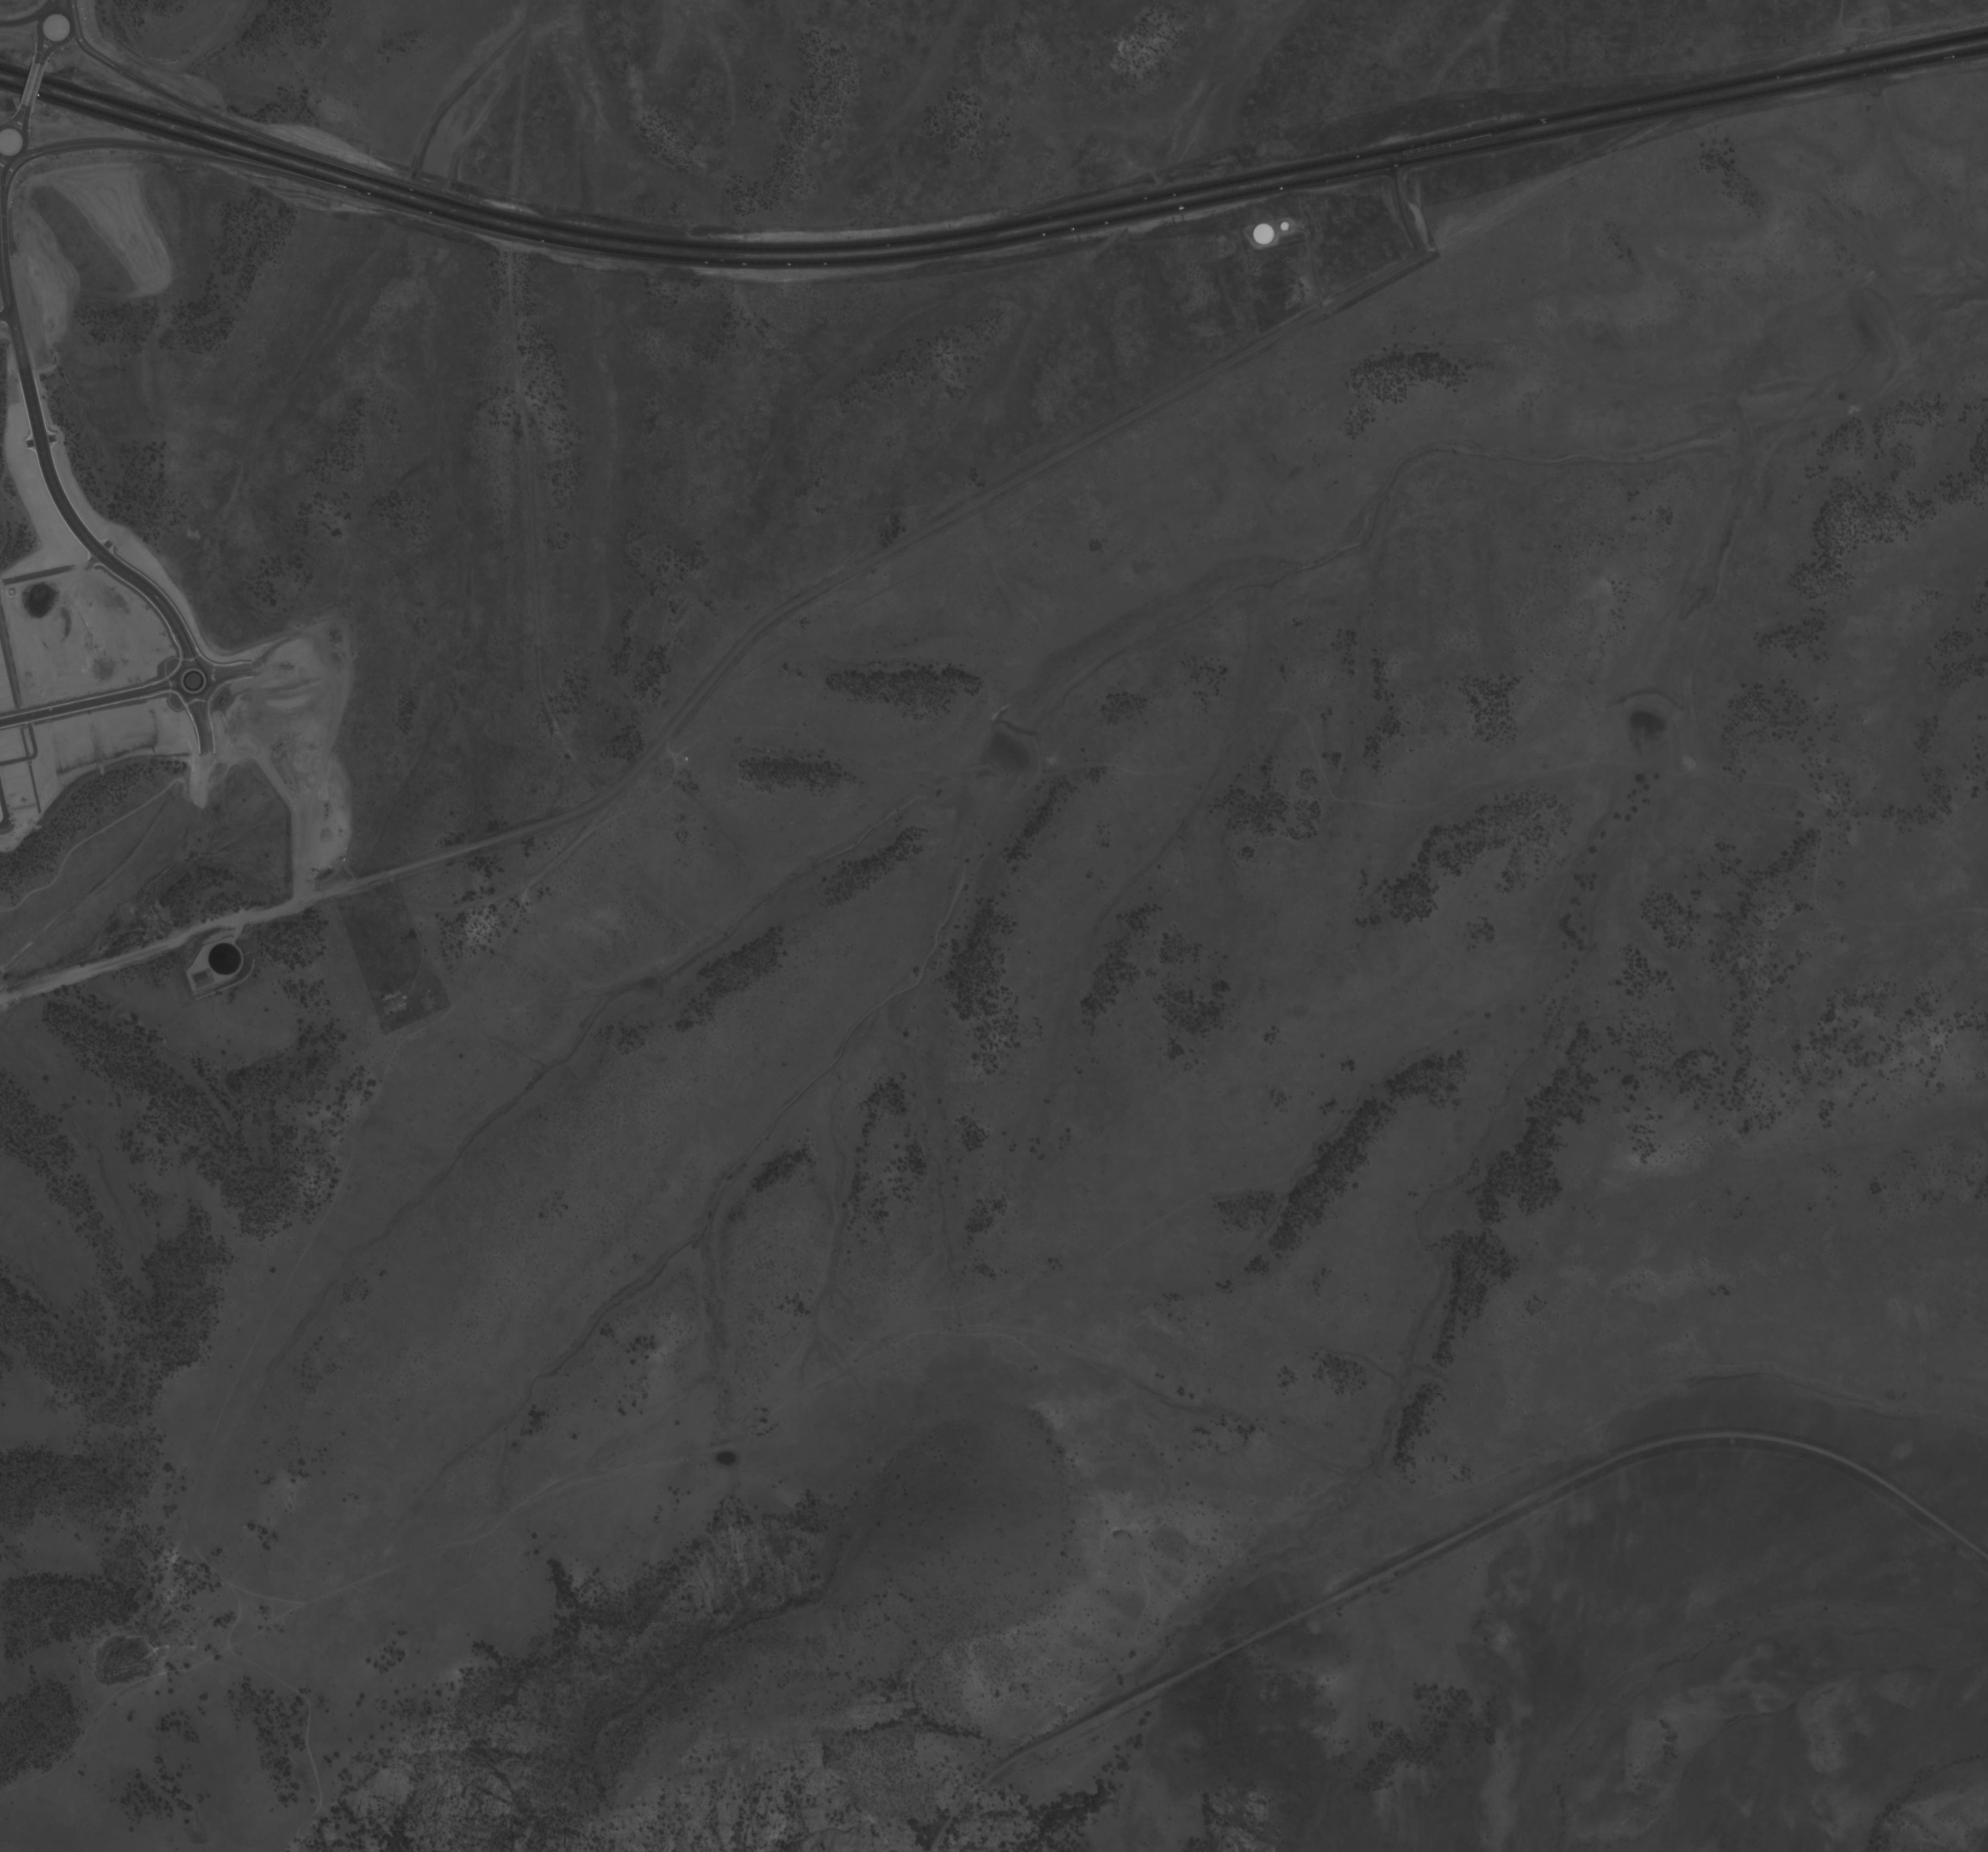roundabout: (176, 661, 212, 703), (40, 12, 75, 45), (2, 127, 26, 160)
storage tank: (1253, 223, 1276, 247), (1281, 219, 1290, 233)
